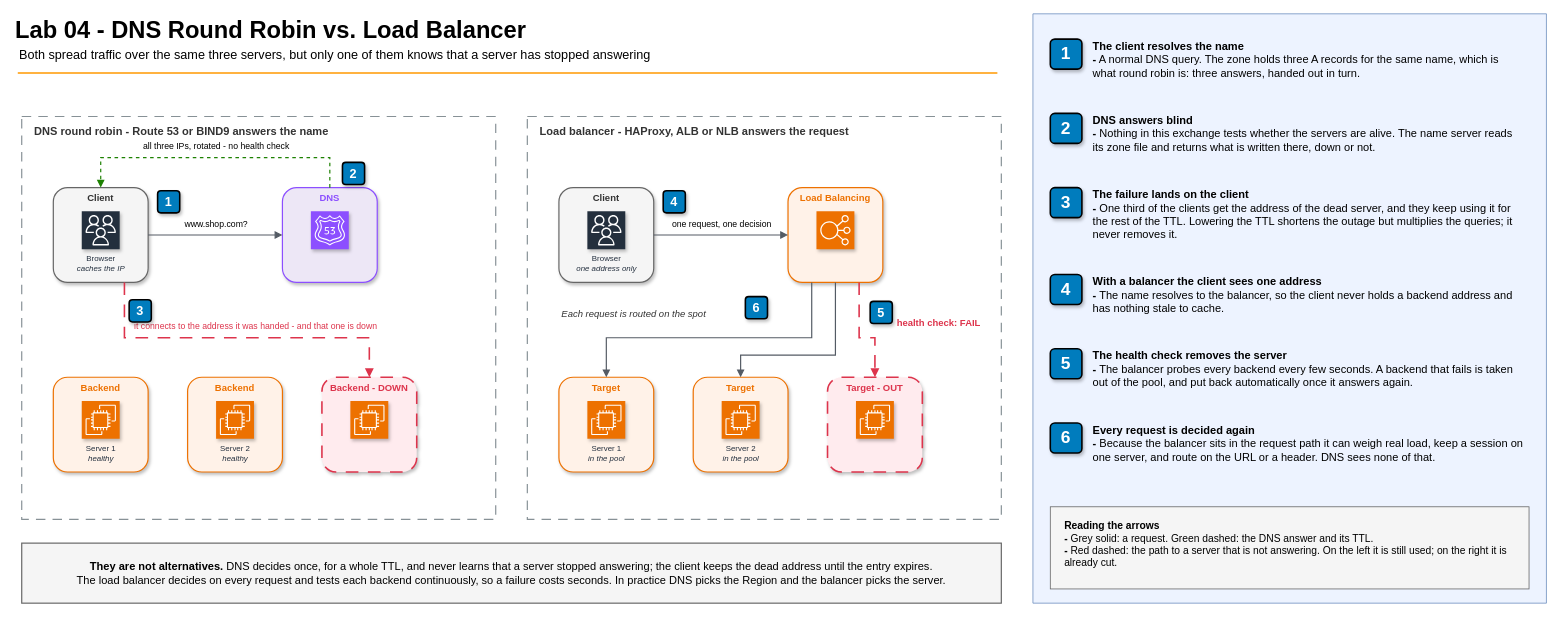
This 1560x618 diagram has some shape labels left out. The centre of each missing label's shape, as x and y in pixels:
ALB or HAProxy health check every few s: (x=836, y=231)
Route 53 3 A records, TTL 300: (x=330, y=231)
Server 3 not answering: (x=369, y=420)
Server 3 out of the pool: (x=875, y=420)
